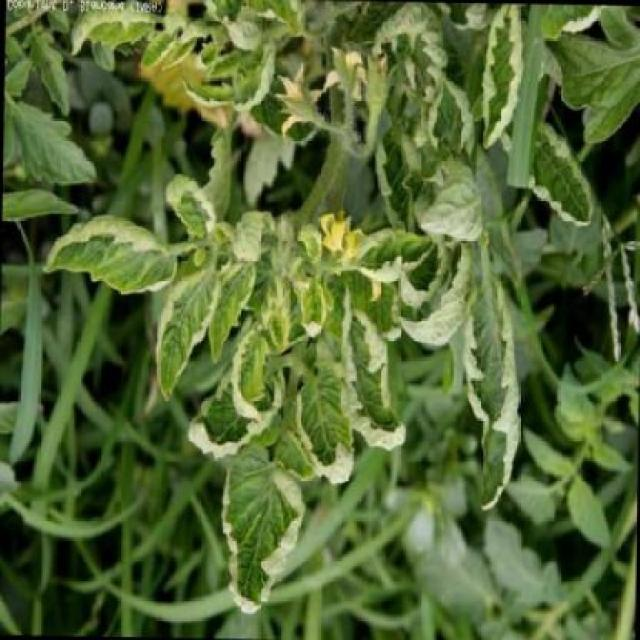Healthy Leaf: (212, 396, 319, 628), (34, 207, 190, 306), (328, 307, 422, 470), (134, 264, 240, 406), (184, 330, 289, 470), (289, 359, 366, 496), (469, 5, 526, 149), (347, 231, 438, 283), (295, 267, 329, 338)
